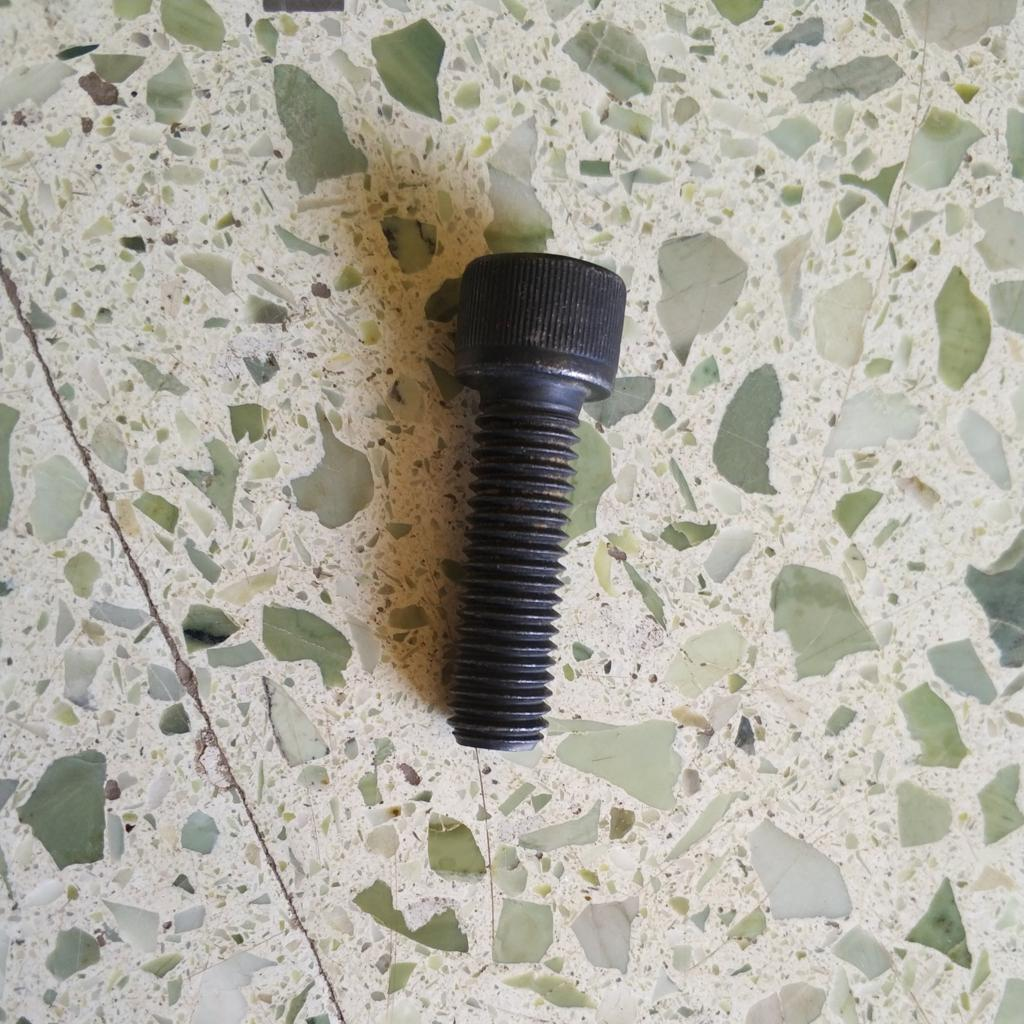screwtype1black: (454, 251, 622, 758)
